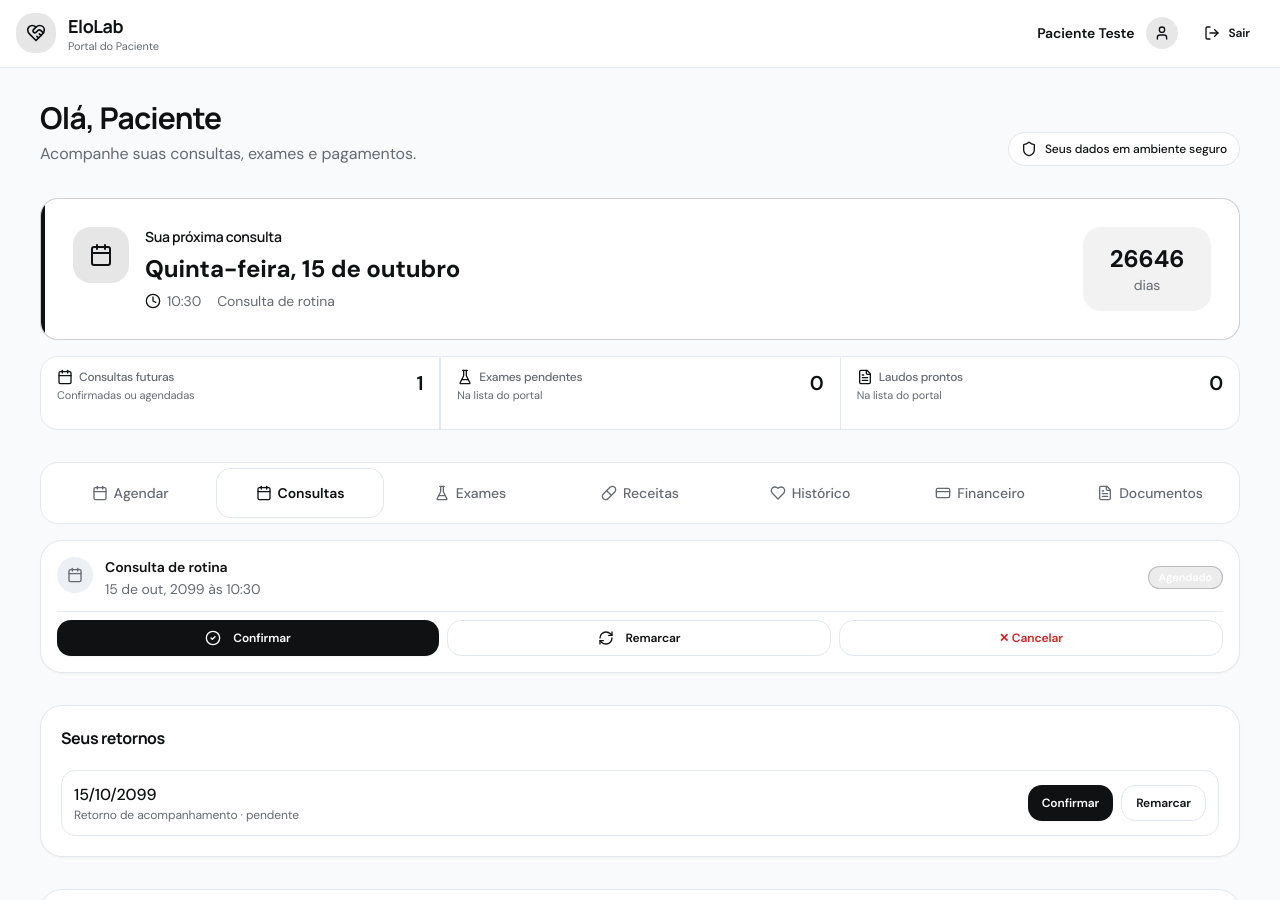
PortalPaciente — cancelamento de consulta › pede confirmação e atualiza a consulta após o cancelamento
The width and height of the screenshot is (1280, 900).
Step 1. Click the button "✕ Cancelar" → (1031, 638), box [839, 620, 1223, 656]
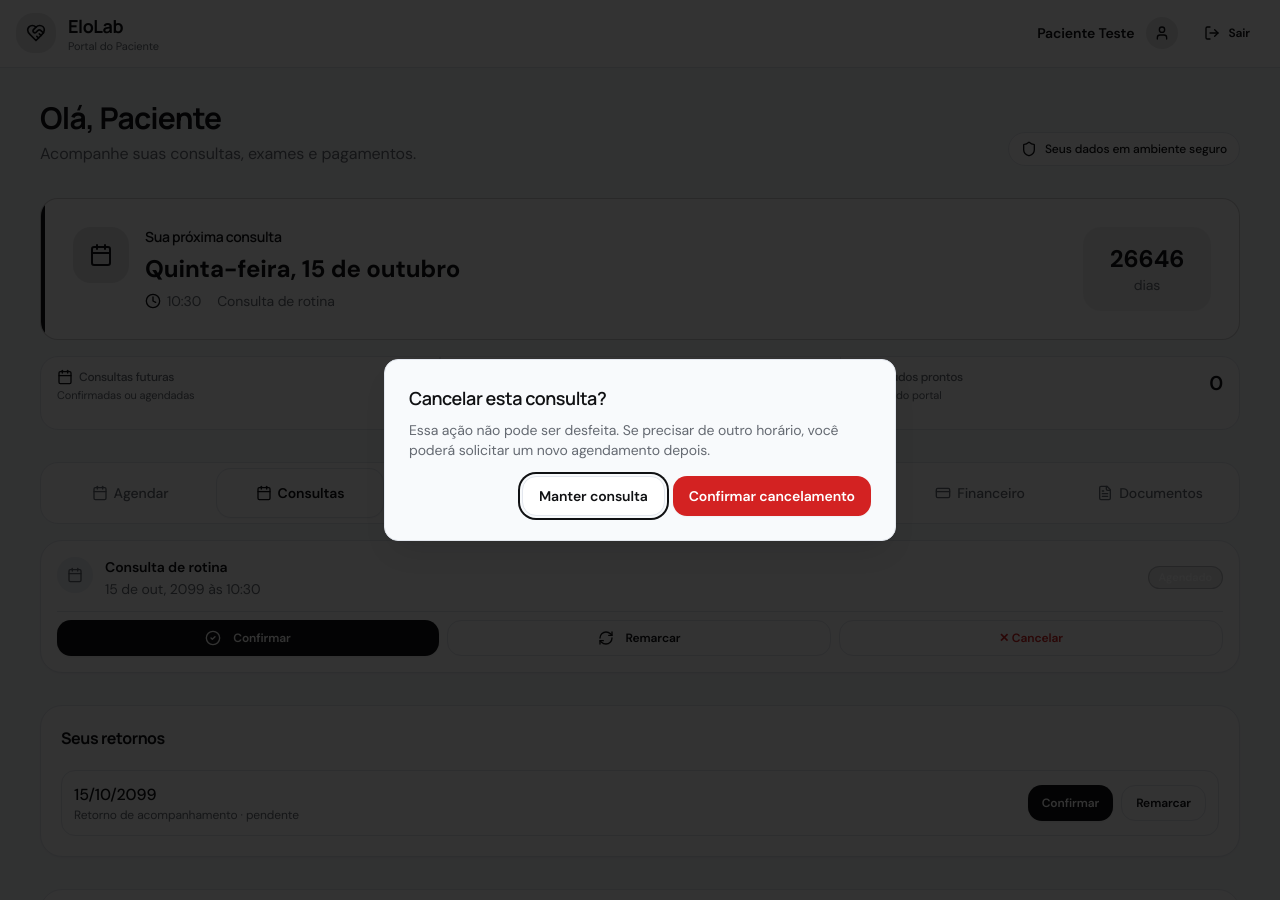
Check: the dialog is shown, box [384, 359, 896, 541]
Step 2. Click the button "Confirmar cancelamento" → (772, 496), box [673, 476, 871, 516]
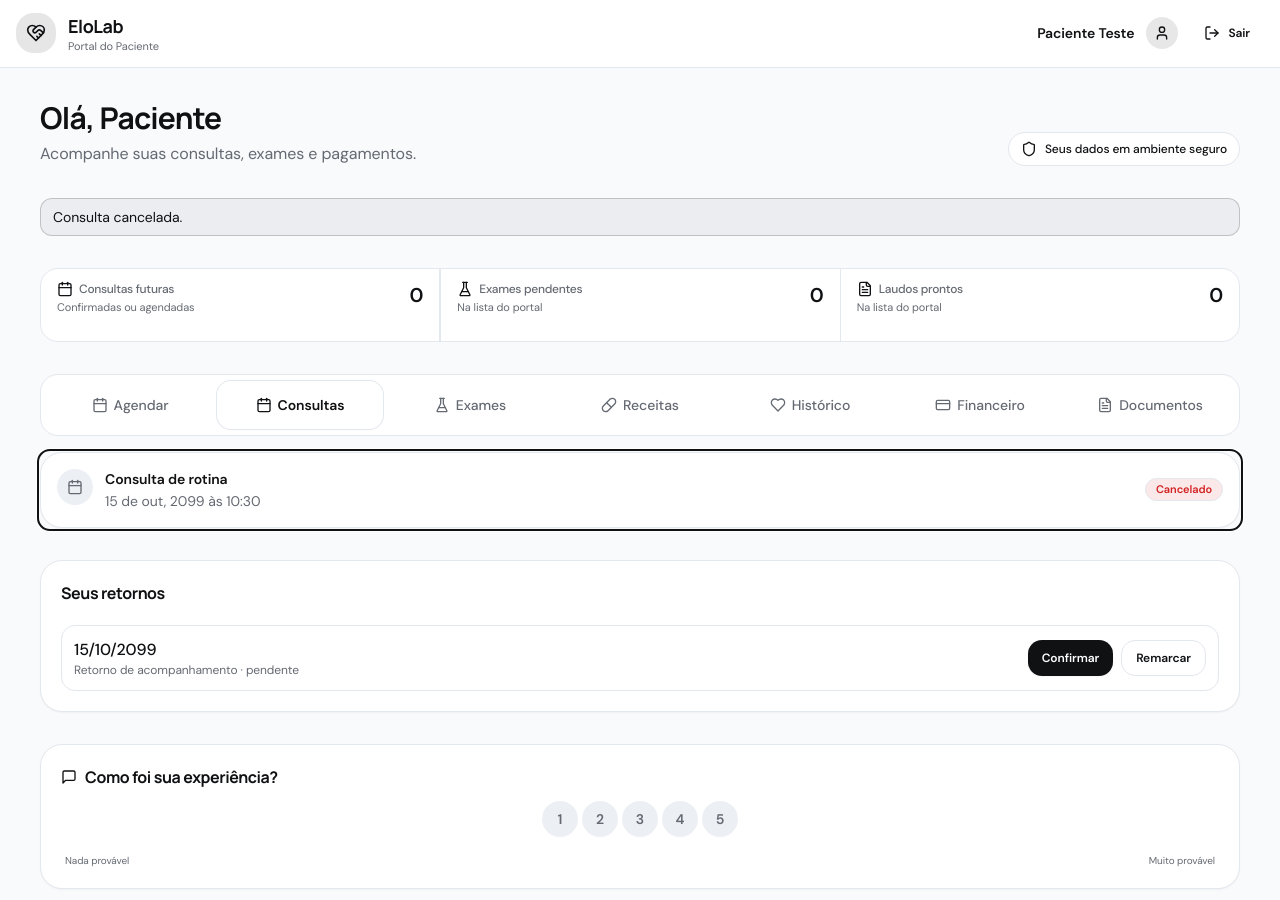
Check: the dialog is gone
Check: the text "Cancelado" is shown, box [1145, 478, 1223, 501]
Check: the message reads "Consulta cancelada.", box [53, 208, 182, 226]
